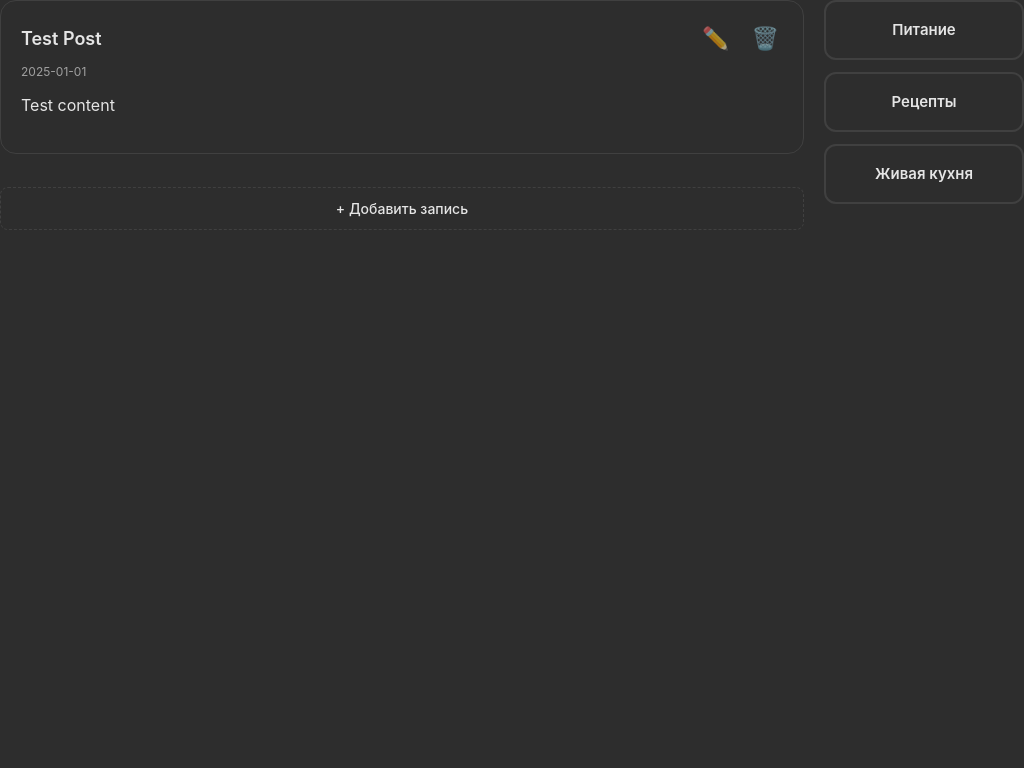
Test case: NutritionFeed › opens delete confirmation modal on delete click
Step 1. Click the button "🗑️" → (765, 38), box [748,21,783,55]
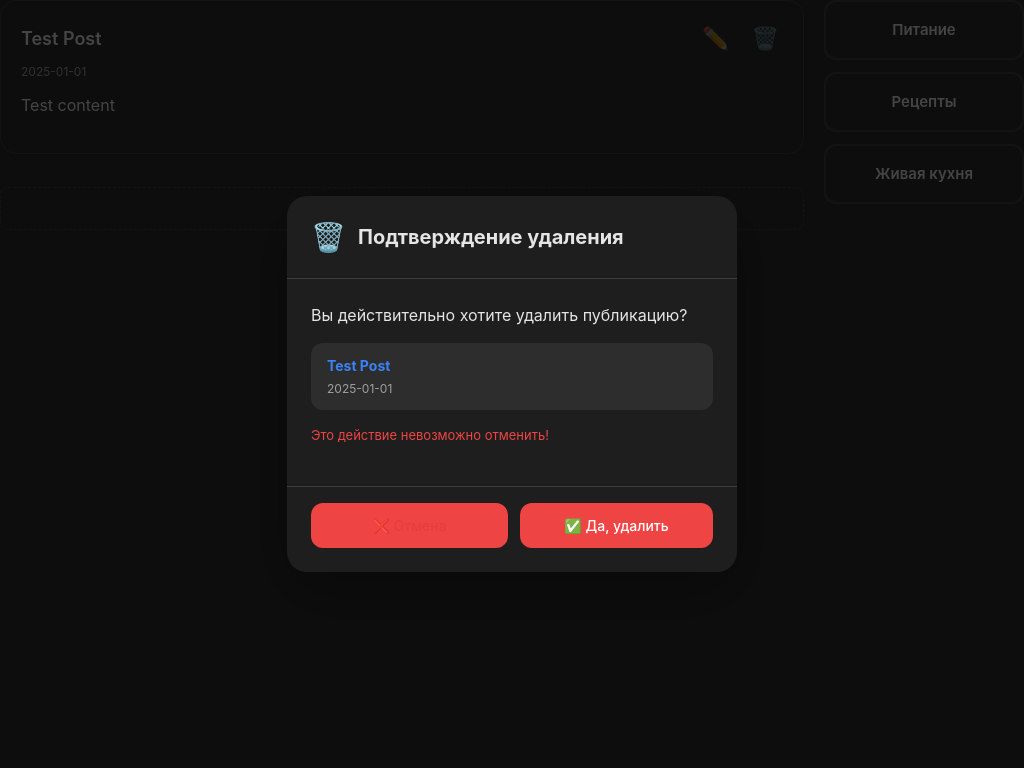
Check: the heading "Подтверждение удаления" is shown, box [358,222,624,252]
Check: the text "Вы действительно хотите удалить публикацию?" is shown, box [311,303,713,327]
